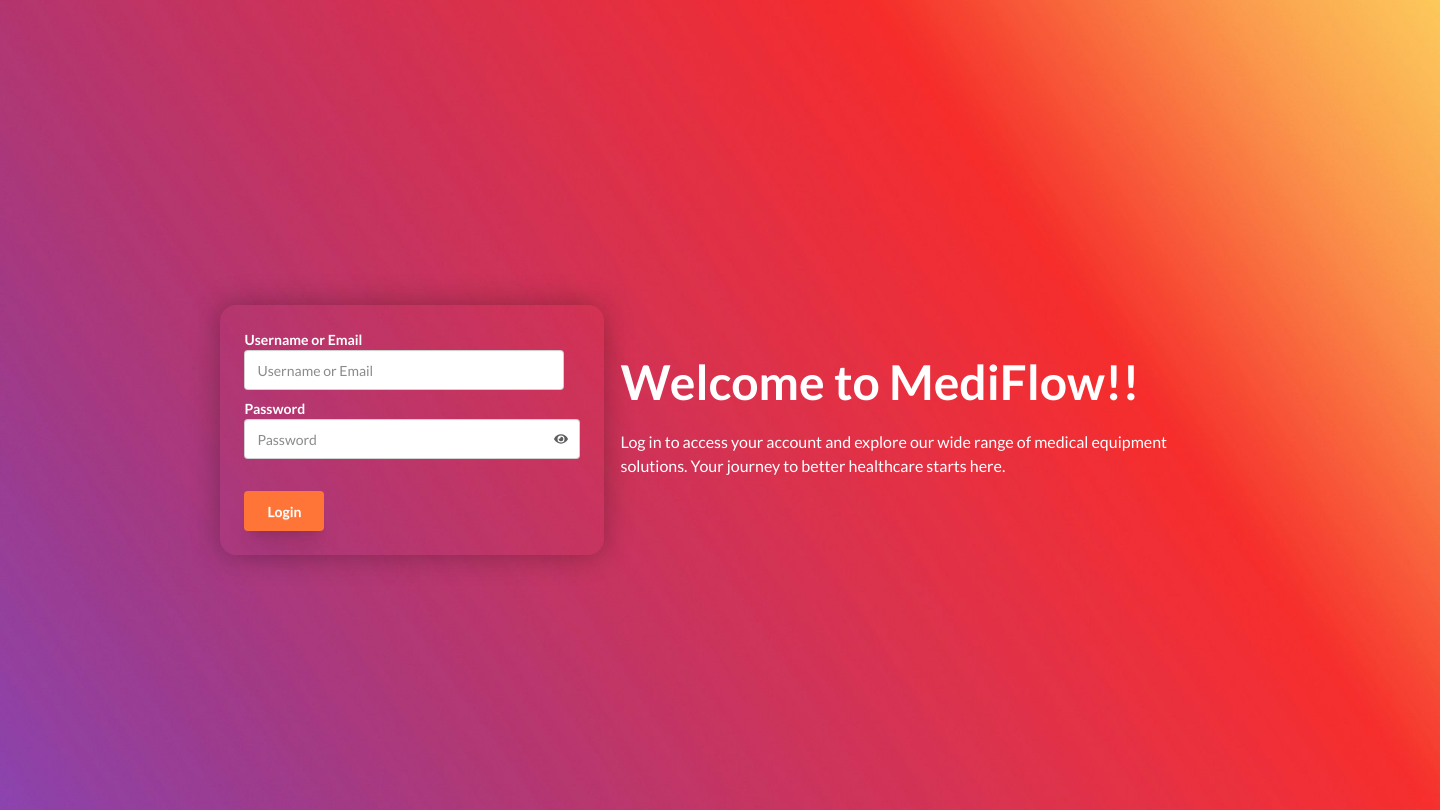
Test case: Login › shows error when password is missing
The image size is (1440, 810).
Type "alice" into the field with placeholder "Username or Email" at (404, 370), box [244, 350, 564, 390]
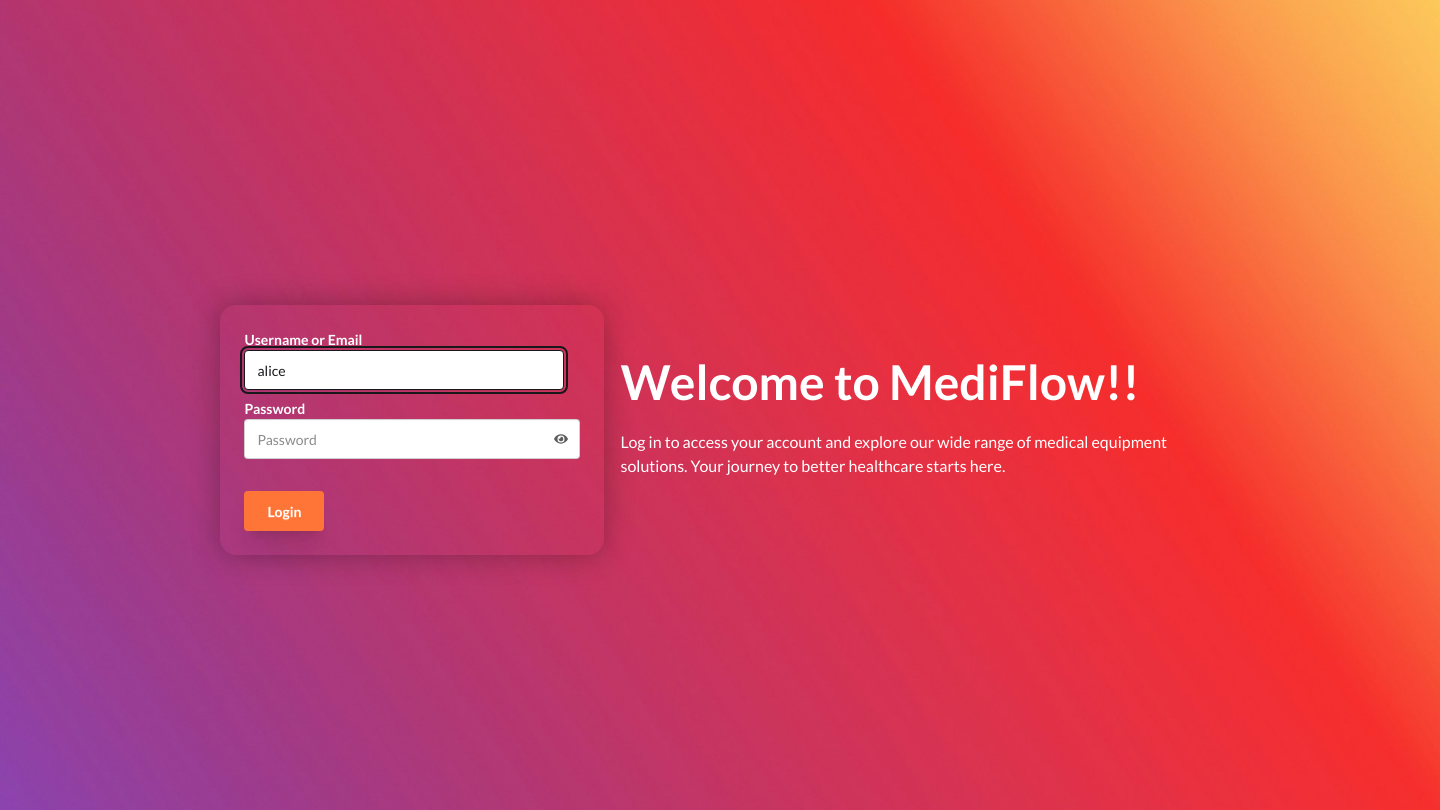
Submit the form "Login", box [220, 305, 604, 555]
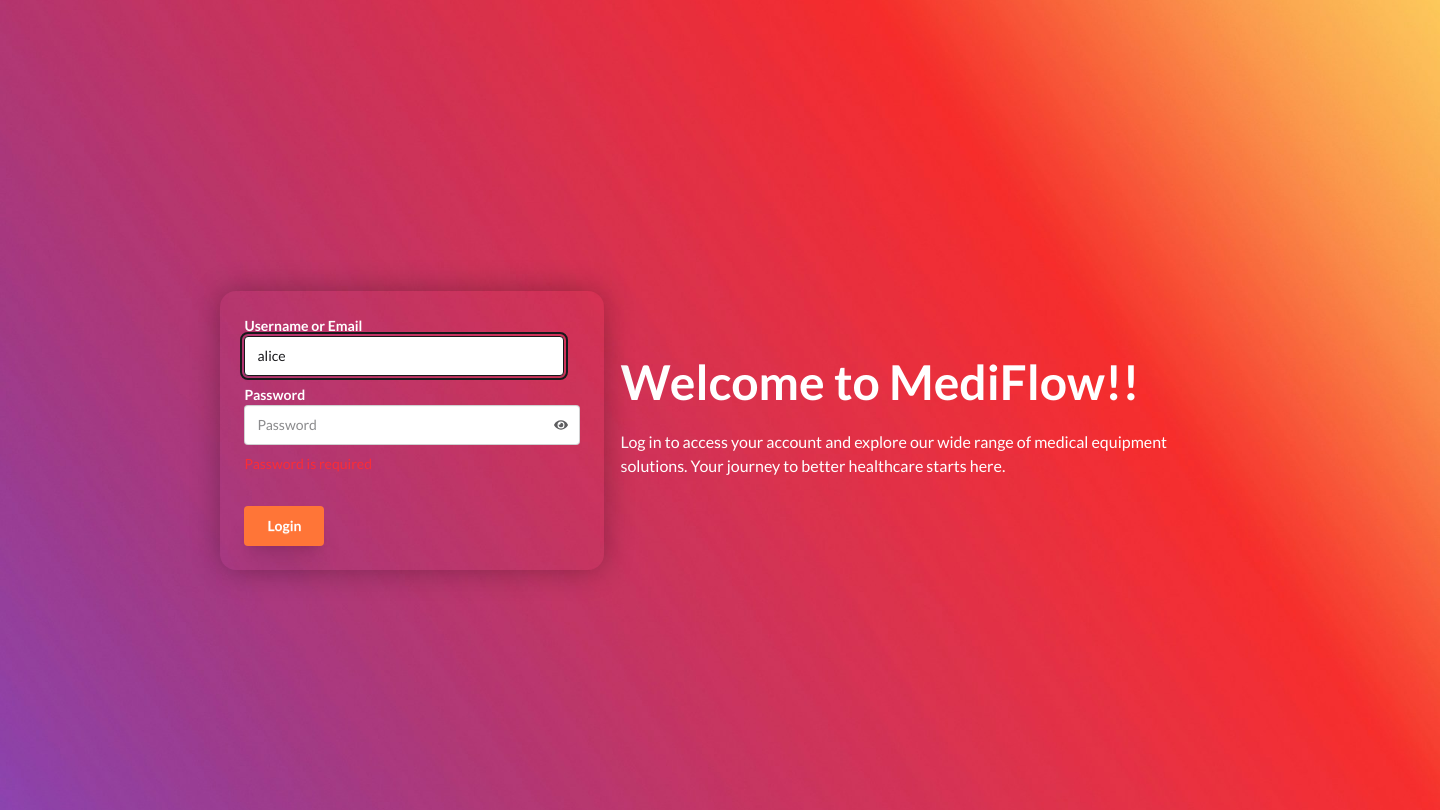
Expected: the text "Password is required" is shown, [244, 454, 372, 472]
